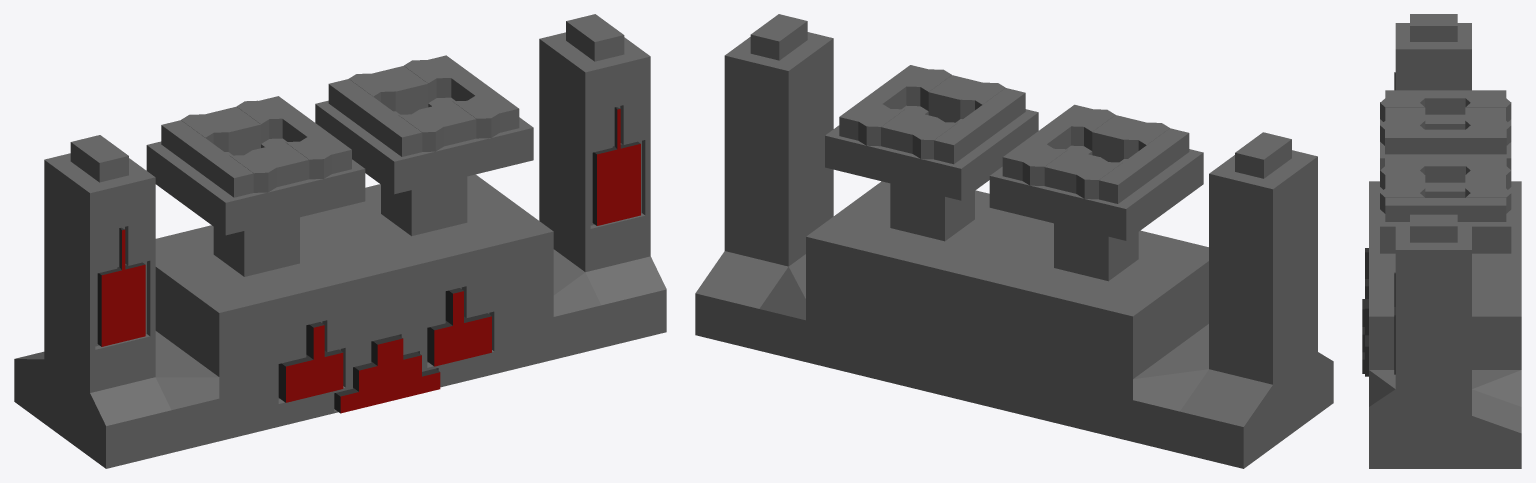
Rendered from CAS_new.fbx.
The picture shows the model from 3 angles, left to right: view 1: azimuth 30°, elevation 25°; view 2: azimuth 150°, elevation 25°; view 3: azimuth 270°, elevation 25°; orthographic projection. The views are drawn at different scales.
Parts seen in each view (by area): view 1: Cube; view 2: Cube; view 3: Cube.
Boxes of the visible parts, bbox=[...] form: Cube: bbox=[14, 14, 666, 468]; Cube: bbox=[695, 14, 1333, 468]; Cube: bbox=[1362, 14, 1521, 468].
Bounding box in the file's own units: 704 × 340 × 209.
